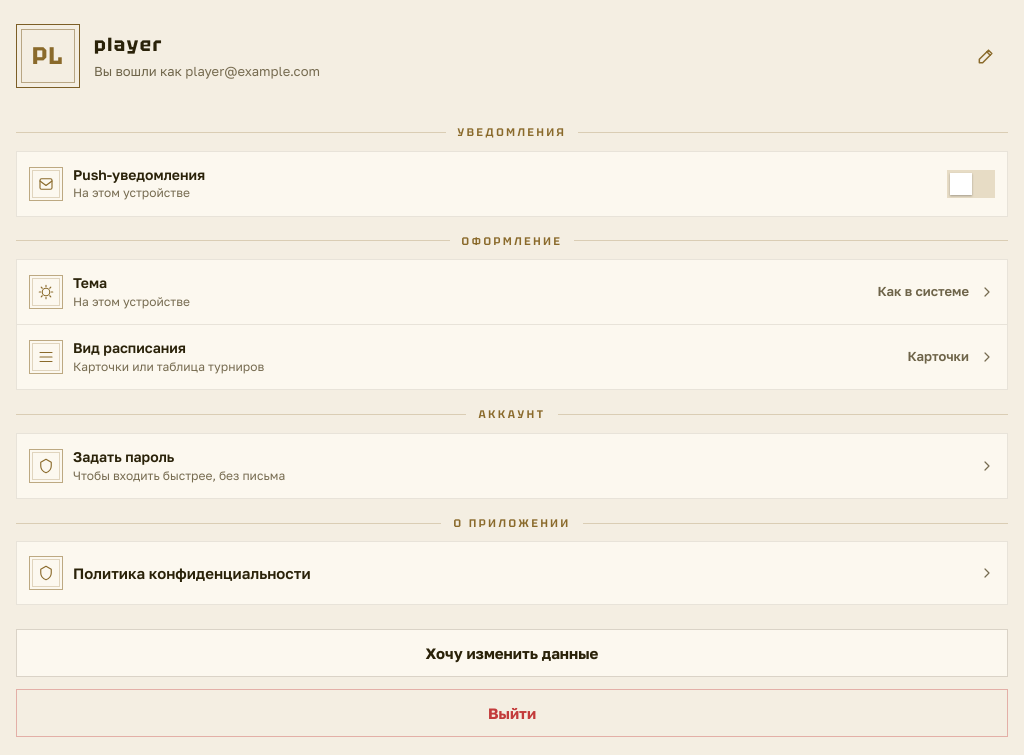
ProfilePage › renders profile and updates nickname through sheet
The width and height of the screenshot is (1024, 755).
Check: the heading "player" is shown, box x1=94 y1=32 x2=163 y2=57
Check: the text "Вы вошли как player@example.com" is shown, box x1=94 y1=62 x2=320 y2=81
Click the button named "Редактировать профиль" at (986, 56), box x1=964 y1=34 x2=1008 y2=78
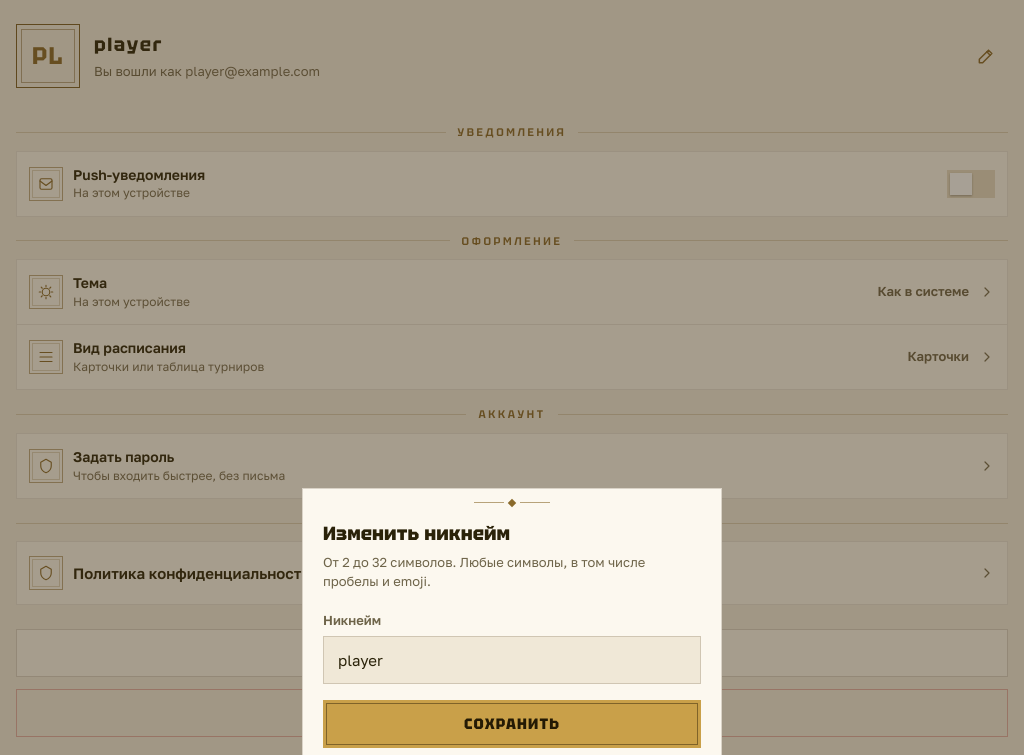
Replace the text in the field labelled "Никнейм" with "pro" at (512, 660), box x1=323 y1=636 x2=701 y2=684
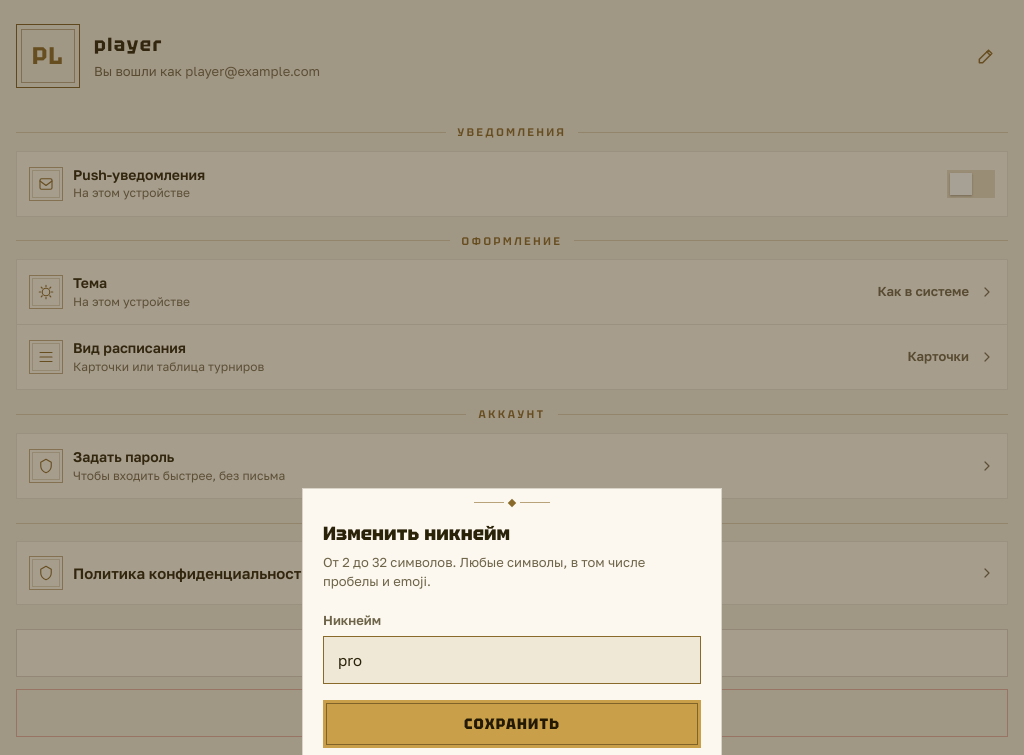
Click the button "Сохранить" at (512, 724), box x1=323 y1=700 x2=701 y2=748
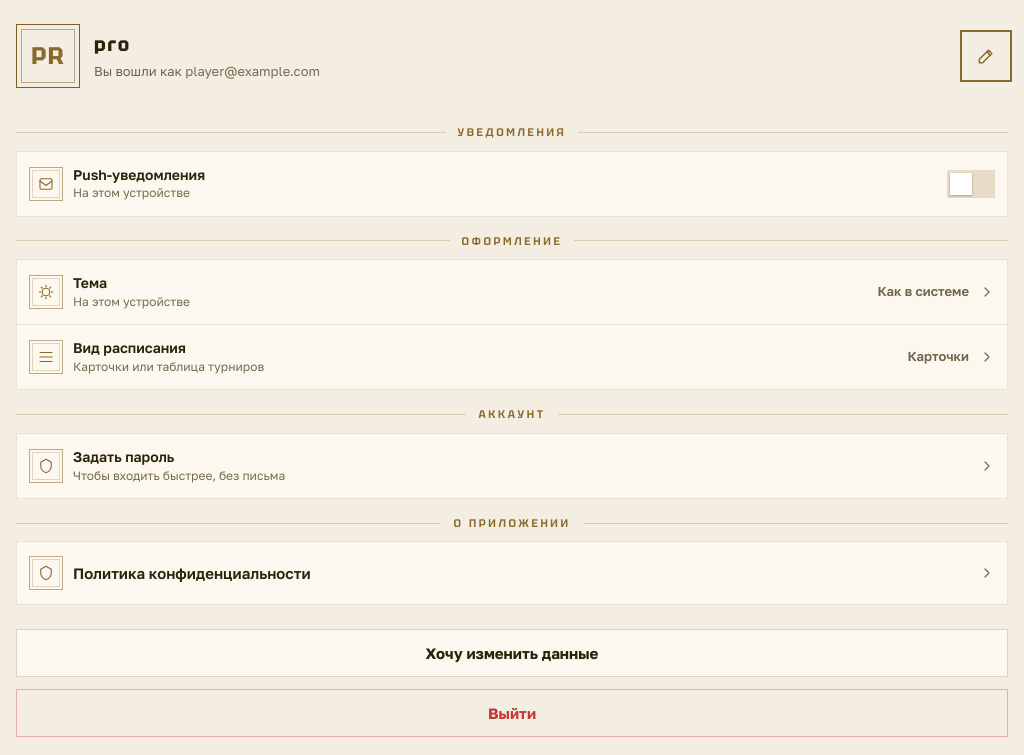
Check: the heading "player" reads "pro", box x1=94 y1=32 x2=131 y2=57
